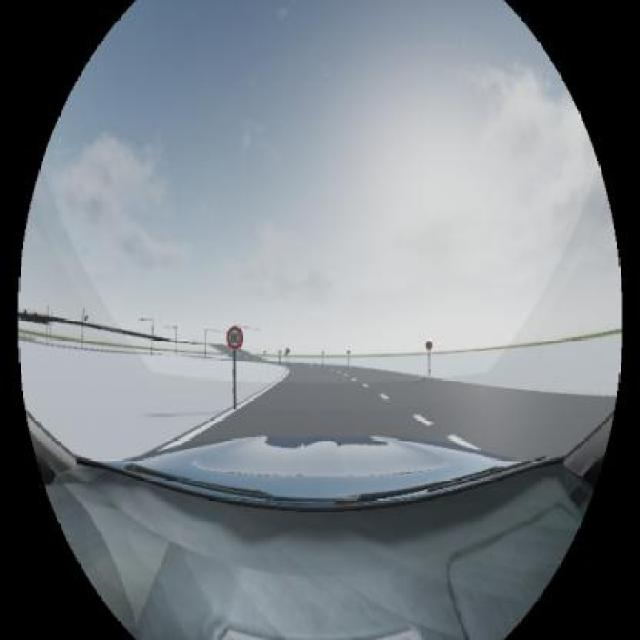forb_speed_over_80: (228, 325, 243, 349)
